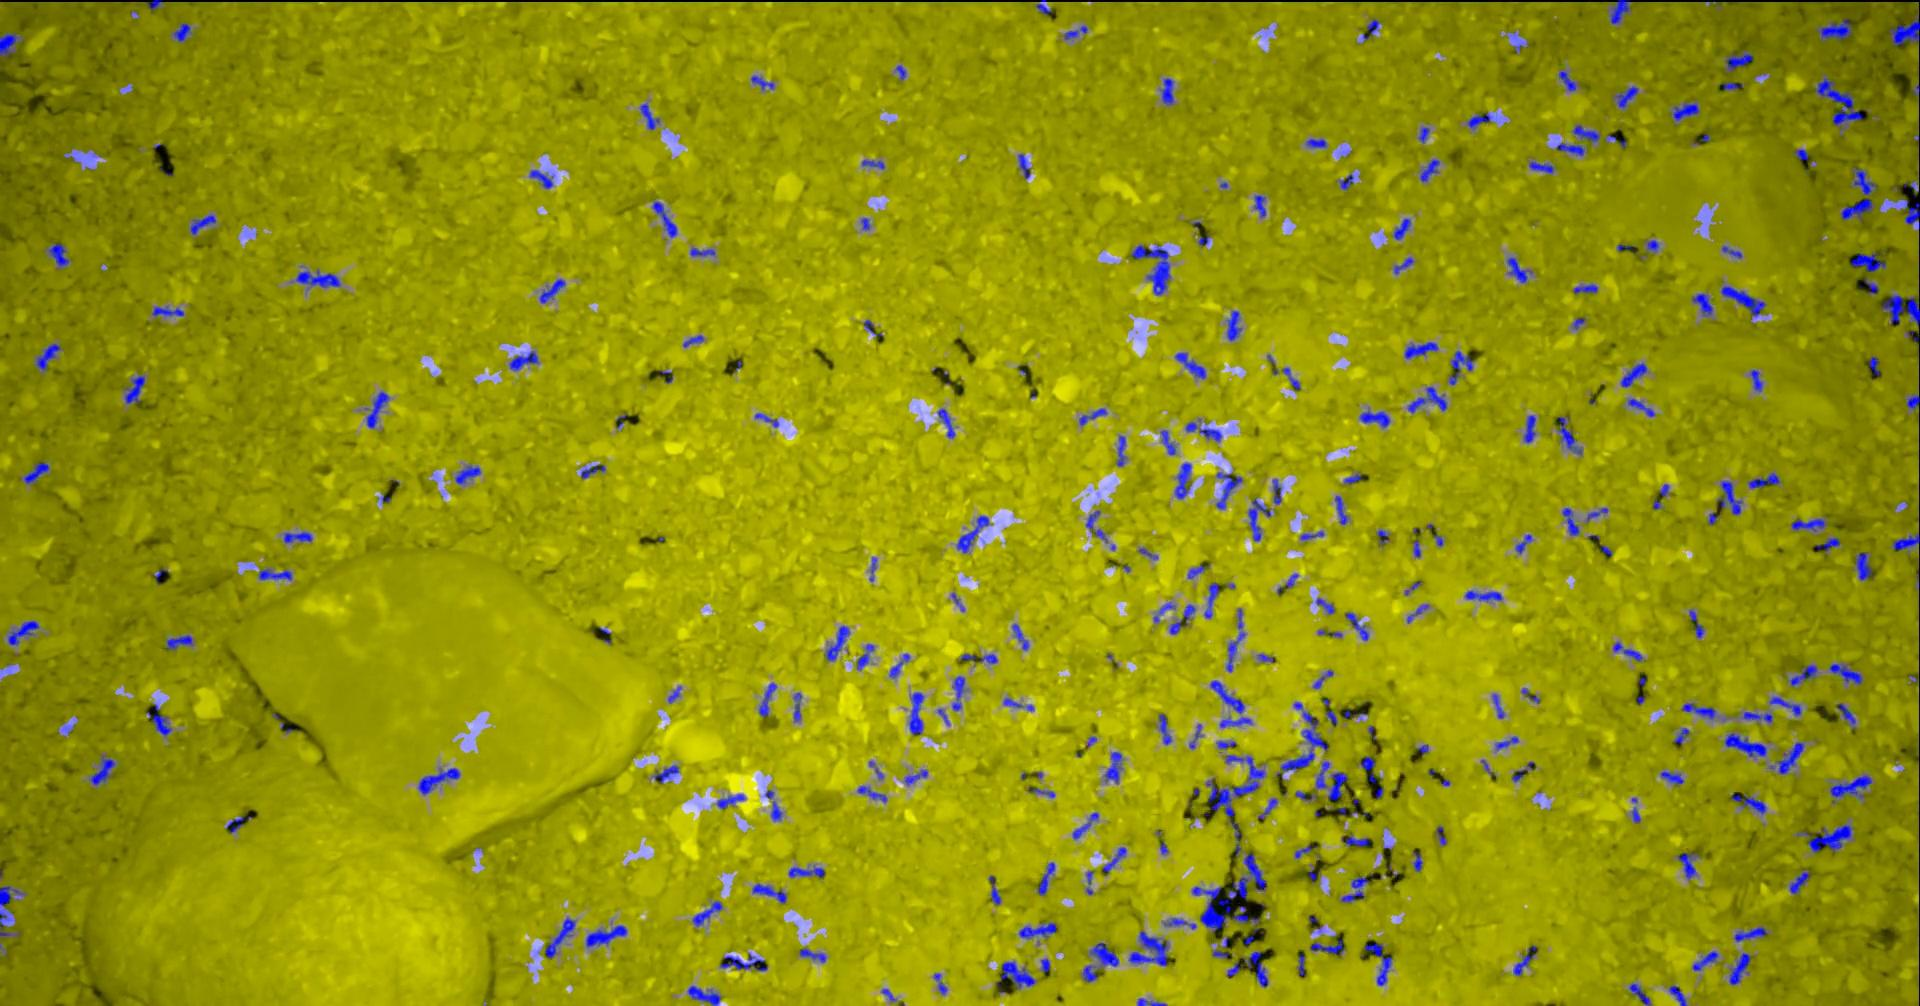ant: (1276, 711, 1328, 779), (1813, 77, 1862, 135), (1130, 244, 1170, 295), (1210, 680, 1252, 727), (1840, 166, 1876, 221), (1881, 295, 1919, 344), (1719, 285, 1765, 319), (1796, 824, 1851, 852), (1128, 930, 1168, 965), (1888, 0, 1919, 44), (543, 917, 575, 958), (956, 514, 988, 553), (1225, 608, 1244, 671), (1829, 775, 1870, 801), (1364, 942, 1390, 984), (418, 767, 458, 794), (1724, 732, 1766, 756), (1407, 386, 1446, 412), (1247, 498, 1270, 541), (1215, 473, 1242, 509), (585, 923, 626, 948), (1775, 741, 1803, 774), (651, 199, 676, 238), (1716, 480, 1742, 514), (999, 962, 1034, 988), (824, 625, 850, 661), (1557, 417, 1581, 453), (145, 702, 171, 735), (295, 269, 340, 288), (719, 953, 767, 970), (366, 391, 389, 428), (1448, 351, 1473, 384), (1175, 352, 1205, 379), (89, 754, 116, 785), (1244, 951, 1267, 987), (8, 620, 39, 645), (1817, 17, 1851, 39), (692, 901, 723, 926), (1072, 812, 1098, 840), (1512, 945, 1537, 976), (1728, 951, 1750, 984), (1340, 876, 1368, 902), (1170, 605, 1194, 634), (1185, 422, 1222, 441), (1850, 251, 1884, 272), (1731, 794, 1765, 814), (752, 883, 786, 903), (1620, 362, 1647, 387), (1090, 942, 1117, 967), (1829, 663, 1862, 683), (687, 984, 720, 1005), (1506, 257, 1531, 282), (1101, 847, 1126, 873), (538, 278, 565, 302), (36, 343, 60, 370), (1345, 612, 1368, 640), (908, 692, 923, 734), (1789, 664, 1816, 687), (758, 682, 776, 716), (1309, 937, 1343, 955), (1769, 696, 1801, 715), (1724, 50, 1752, 71), (1272, 367, 1300, 389), (1327, 771, 1347, 800), (1404, 340, 1437, 358), (1175, 462, 1191, 498), (1611, 641, 1642, 661), (1018, 922, 1057, 937), (1681, 702, 1716, 719), (1103, 751, 1121, 782), (1900, 198, 1919, 227), (509, 351, 538, 370), (0, 32, 23, 56), (23, 461, 48, 483), (1677, 852, 1699, 878), (639, 103, 659, 130), (1204, 582, 1219, 617), (124, 375, 143, 403), (1627, 398, 1655, 417), (1854, 553, 1873, 580), (1037, 862, 1054, 894), (1613, 86, 1637, 108), (889, 653, 909, 678), (1691, 950, 1717, 970), (651, 763, 678, 782), (1359, 410, 1389, 427), (1735, 926, 1768, 941), (1078, 408, 1106, 426), (1011, 622, 1029, 650), (1609, 0, 1630, 23), (190, 213, 215, 234), (48, 243, 69, 267), (1511, 761, 1535, 781), (455, 465, 480, 484), (1747, 473, 1779, 488), (1836, 702, 1855, 728), (937, 408, 954, 437), (857, 785, 886, 801), (1672, 102, 1699, 119), (1572, 124, 1599, 142), (1892, 532, 1919, 550), (1359, 756, 1377, 782), (225, 815, 251, 833), (1276, 573, 1298, 594), (1628, 983, 1650, 1005), (1691, 293, 1712, 316), (1225, 310, 1241, 340), (1789, 871, 1810, 894), (1562, 507, 1578, 535), (528, 169, 552, 188), (856, 643, 872, 669), (1418, 159, 1439, 180), (1153, 602, 1175, 622), (1257, 798, 1277, 819), (0, 885, 22, 906), (1790, 518, 1825, 531), (1464, 589, 1502, 601), (951, 676, 964, 710), (1467, 112, 1491, 130), (1688, 608, 1703, 636), (0, 909, 15, 937), (258, 568, 291, 580), (165, 634, 192, 649), (1158, 713, 1171, 744), (716, 794, 744, 808), (1312, 669, 1332, 688), (1669, 984, 1688, 1005), (1393, 257, 1415, 274), (1406, 605, 1427, 622), (960, 653, 997, 663), (1316, 761, 1330, 788), (799, 948, 825, 962), (1335, 495, 1347, 525), (1003, 697, 1032, 710), (988, 875, 1001, 904), (754, 412, 778, 427), (171, 22, 190, 41), (1163, 917, 1195, 929), (789, 866, 824, 876), (1556, 142, 1583, 155), (1322, 699, 1336, 724), (904, 768, 927, 784), (1161, 77, 1173, 104), (1523, 415, 1535, 442), (1063, 25, 1087, 39), (750, 75, 775, 89), (580, 464, 604, 478), (1815, 537, 1839, 551), (1558, 71, 1575, 91), (1393, 218, 1410, 239), (1017, 152, 1030, 178), (151, 306, 183, 316), (1161, 431, 1175, 453), (283, 531, 311, 542), (1495, 735, 1517, 749), (1515, 533, 1531, 553), (1316, 597, 1335, 614), (1341, 836, 1371, 846), (1528, 161, 1554, 173), (1586, 507, 1608, 521), (1672, 727, 1689, 744), (1660, 771, 1683, 784), (1294, 845, 1317, 857), (1743, 711, 1771, 721), (1116, 434, 1125, 466), (1492, 694, 1503, 718), (1721, 245, 1742, 258), (1750, 370, 1763, 391), (933, 973, 946, 995), (1084, 509, 1098, 528), (792, 692, 801, 721), (1035, 0, 1051, 15), (1187, 564, 1205, 578), (1253, 194, 1265, 216), (682, 334, 703, 345), (690, 246, 714, 257), (1573, 283, 1597, 293), (1911, 66, 1919, 98), (770, 800, 781, 821), (1082, 965, 1097, 981), (1338, 173, 1352, 189), (1864, 277, 1878, 293), (1366, 18, 1379, 36), (1272, 478, 1281, 503), (1868, 356, 1879, 375), (1084, 870, 1093, 894), (1905, 394, 1919, 409), (1412, 851, 1422, 871), (861, 159, 884, 168), (1300, 530, 1323, 539), (1225, 962, 1239, 976), (1717, 81, 1742, 89), (1305, 138, 1327, 147), (1377, 528, 1388, 545), (1137, 998, 1166, 1005), (1343, 473, 1361, 483), (1436, 826, 1445, 845), (146, 0, 163, 10), (1298, 954, 1305, 976), (1644, 239, 1658, 250), (1418, 127, 1429, 142), (1794, 149, 1807, 160), (1217, 741, 1236, 748)
